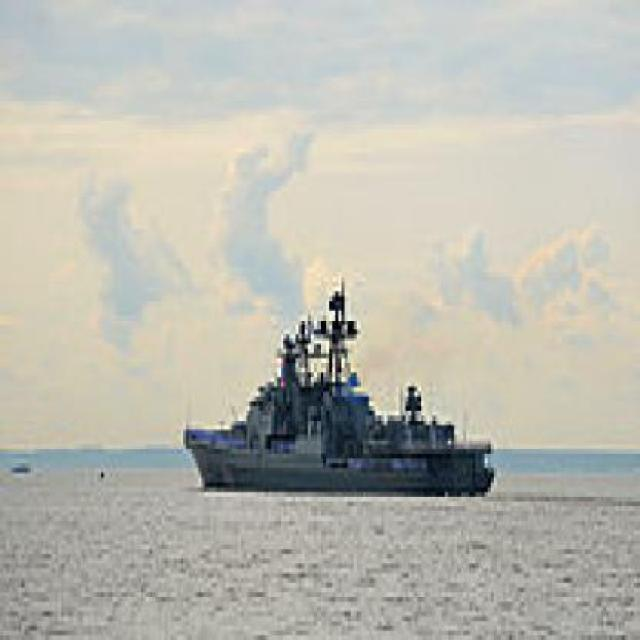warship2: (163, 287, 507, 512)
